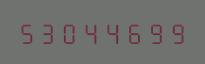five: (17, 20, 37, 44)
four: (80, 20, 100, 44), (101, 20, 121, 44)
nine: (143, 20, 163, 44), (164, 20, 184, 44)
six: (122, 20, 142, 44)
three: (38, 20, 58, 44)
zero: (59, 20, 79, 44)
